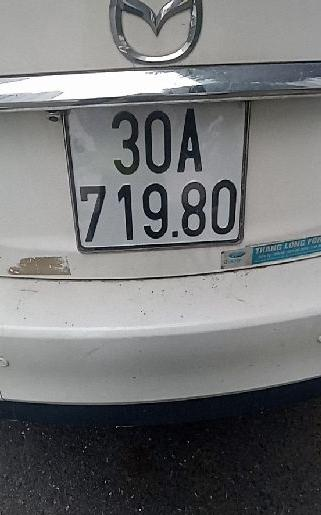Plate-iWeP: (76, 102, 247, 248)
